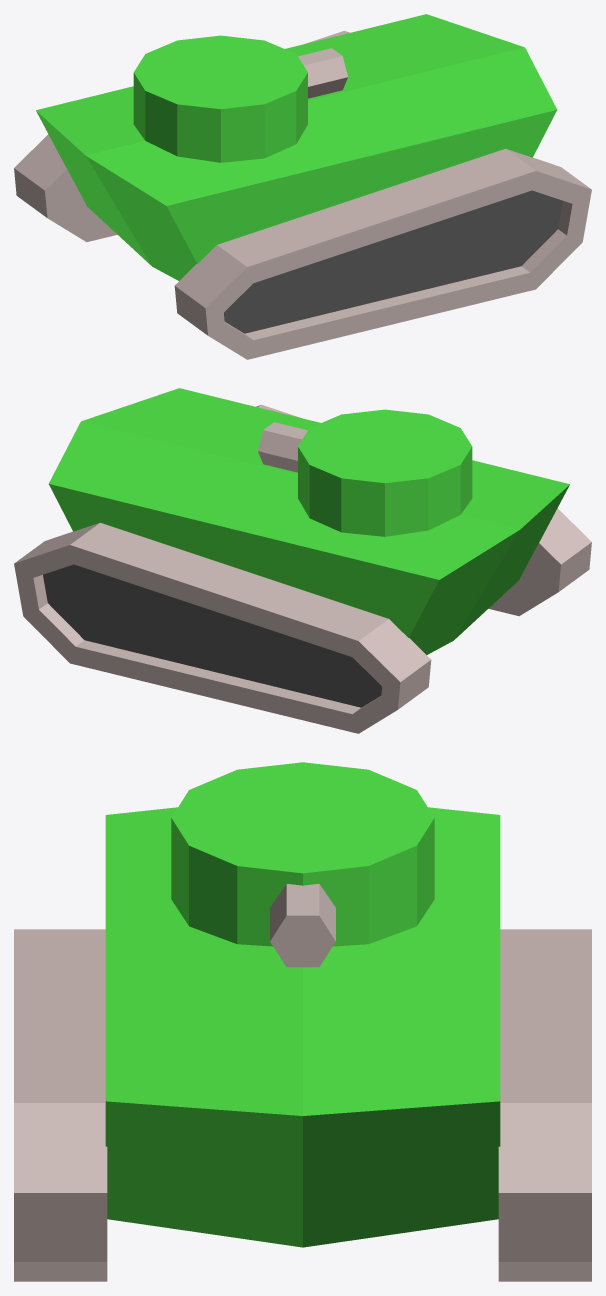
File: tank.fbx
3 views of the same model, one above another, from view 1: azimuth 30°, elevation 25°; view 2: azimuth 150°, elevation 25°; view 3: azimuth 270°, elevation 25° (orthographic). The views are drawn at different scales.
Parts seen in each view (by area): view 1: Body, Turret; view 2: Body, Turret; view 3: Body, Turret.
Part boxes in pixels (x1,y1,x2,y2): Body: [14, 14, 591, 359]; Turret: [133, 35, 347, 162]; Body: [14, 388, 591, 733]; Turret: [258, 409, 472, 536]; Body: [14, 807, 591, 1281]; Turret: [171, 762, 434, 967].
Bounding box in the file's own units: 582 × 254 × 439.
